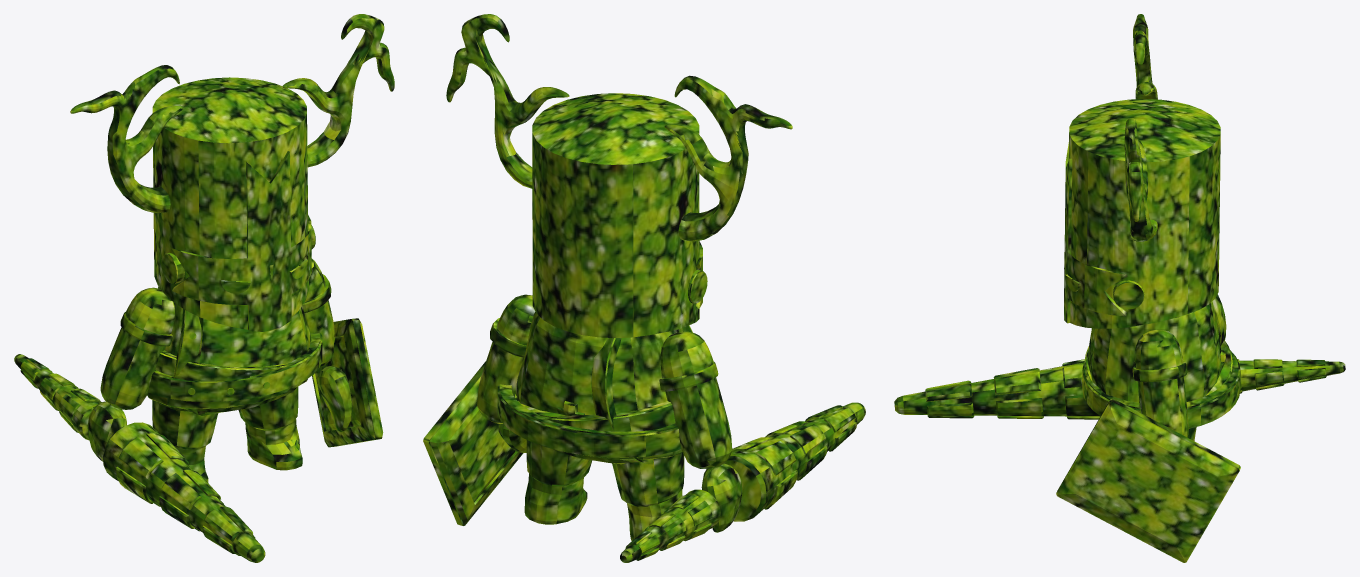
The model's file is Arbolito.obj.
3 renders of one model, left to right at view 1: azimuth 30°, elevation 25°; view 2: azimuth 150°, elevation 25°; view 3: azimuth 270°, elevation 25°, orthographic. The views are drawn at different scales.
Visible parts, largest first — view 1: CENTRE_CHEST_HEAD_HEAD1_Cylinder; view 2: CENTRE_CHEST_HEAD_HEAD1_Cylinder; view 3: CENTRE_CHEST_HEAD_HEAD1_Cylinder.
Part boxes in pixels (box(x1,y1,x2,y2)): CENTRE_CHEST_HEAD_HEAD1_Cylinder: box(14, 14, 394, 562); CENTRE_CHEST_HEAD_HEAD1_Cylinder: box(423, 14, 865, 562); CENTRE_CHEST_HEAD_HEAD1_Cylinder: box(894, 14, 1345, 562).
Bounding box in the file's own units: 2.29 × 3.07 × 2.84.
